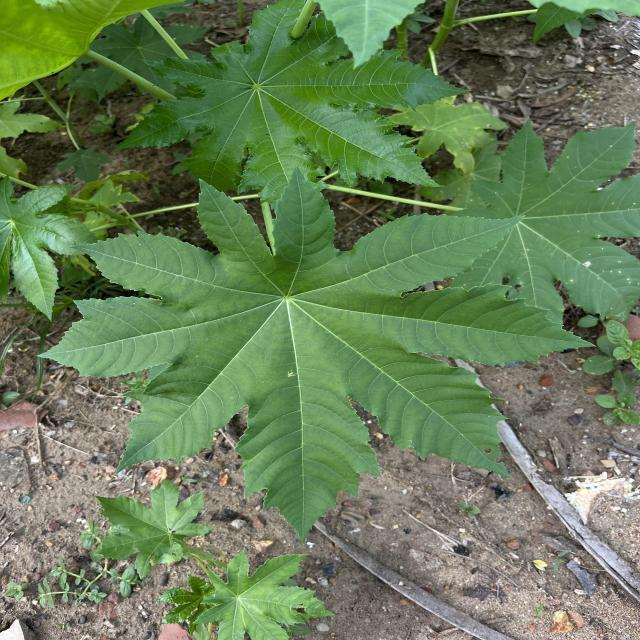Ricinus communis linn: (31, 162, 602, 548)
